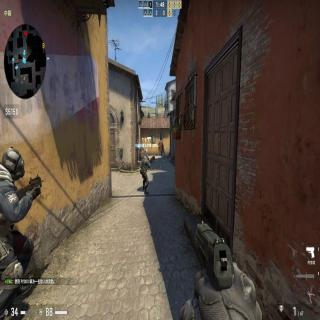CT-Body: (140, 154, 150, 194)
CT-Head: (2, 147, 26, 179)
T-Body: (161, 143, 165, 156)
